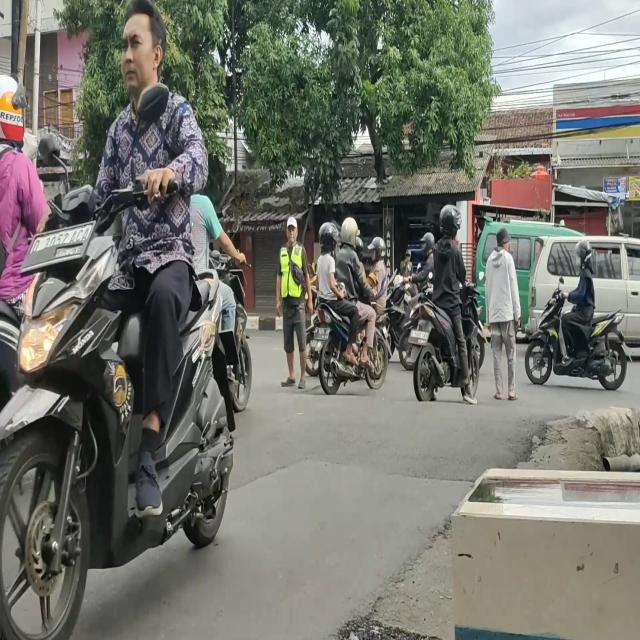helmet: (0, 72, 28, 144), (442, 205, 461, 238), (344, 216, 361, 250), (320, 220, 337, 251), (576, 237, 592, 268), (420, 232, 437, 260), (369, 234, 384, 258)
no-helmet: (120, 7, 162, 88)
